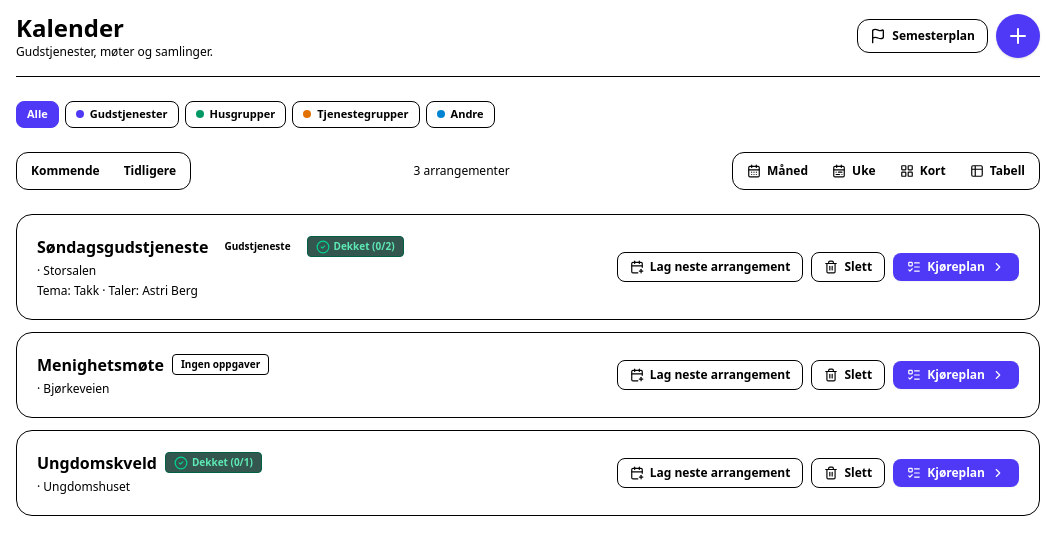
Test case: Kalenderen på PC › Tidligere viser det som er holdt
Expected: the text "Gammel gudstjeneste" is not shown
Click the button "Tidligere": (150, 170) [112,154,188,186]
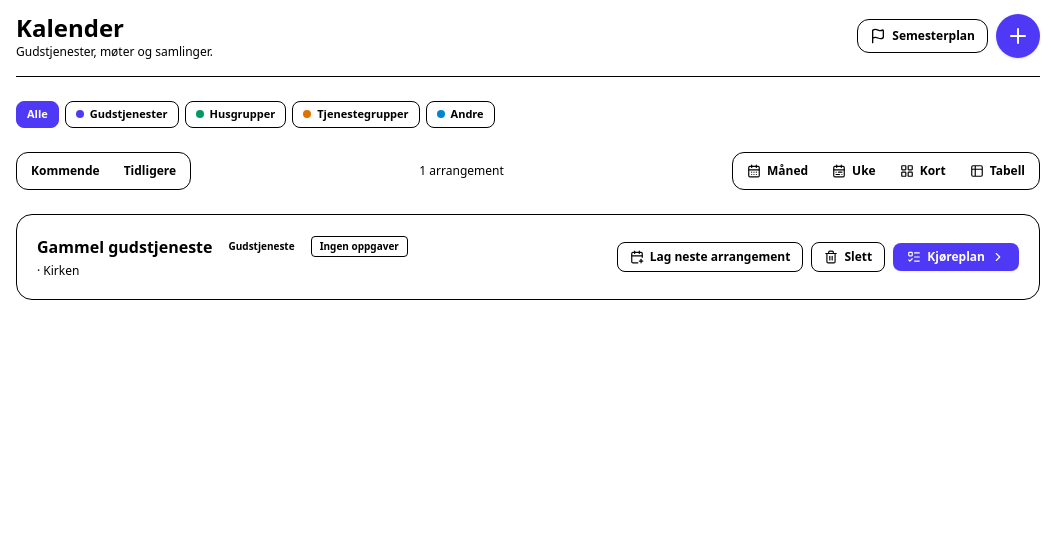
Expected: the heading "Gammel gudstjeneste" is shown, [37,234,212,258]
